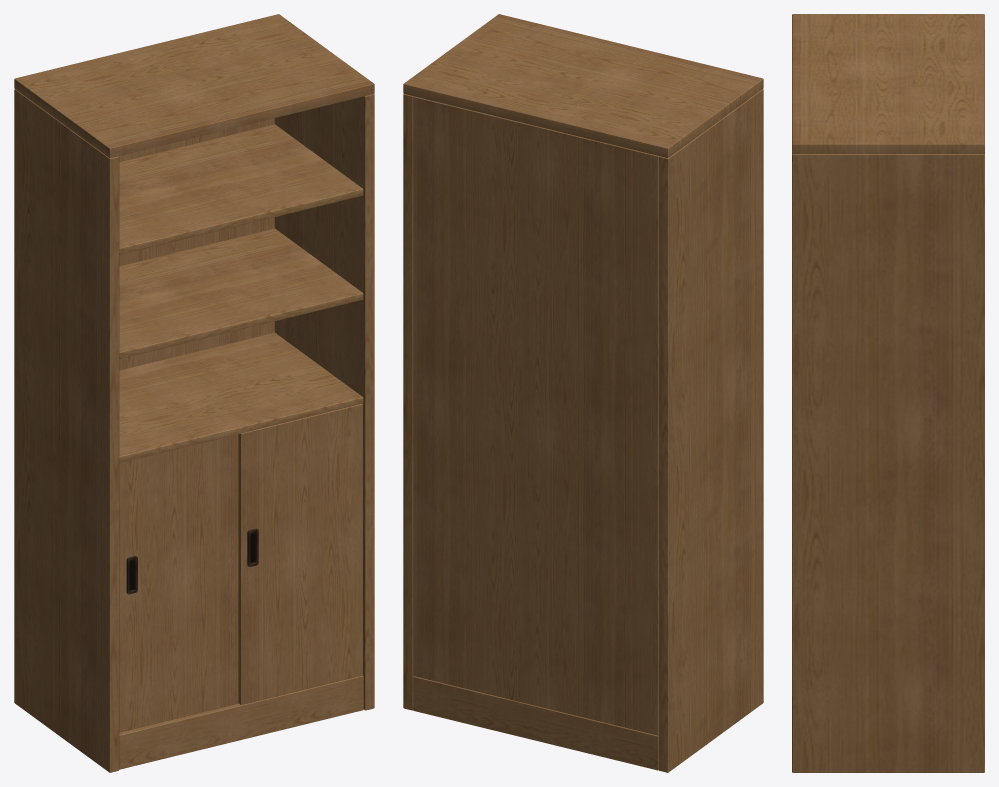
Rendered from Shelf_01_Narrow.FBX.
3 renders of one model, left to right at view 1: azimuth 30°, elevation 25°; view 2: azimuth 150°, elevation 25°; view 3: azimuth 270°, elevation 25°, orthographic.
Visible parts, largest first — view 1: Shelf_01_Narrow; view 2: Shelf_01_Narrow; view 3: Shelf_01_Narrow.
Part boxes in pixels (x1,y1,x2,y2): Shelf_01_Narrow: [14, 14, 374, 772]; Shelf_01_Narrow: [403, 14, 763, 772]; Shelf_01_Narrow: [792, 14, 984, 772].
Size of the model in its own units: 80 by 180 by 50.
